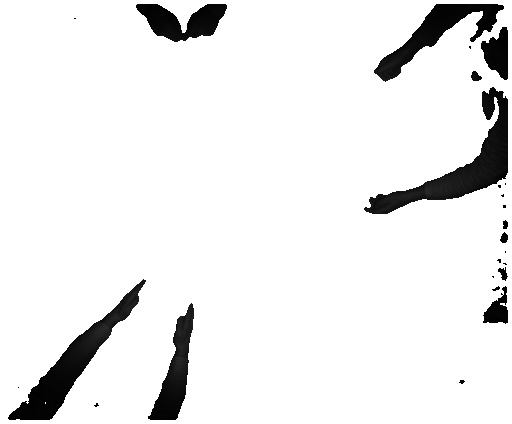fist: (368, 53, 405, 87)
hand: (185, 12, 231, 47), (146, 11, 186, 47), (360, 184, 405, 215)
spine: (110, 275, 151, 327), (173, 299, 199, 351)
